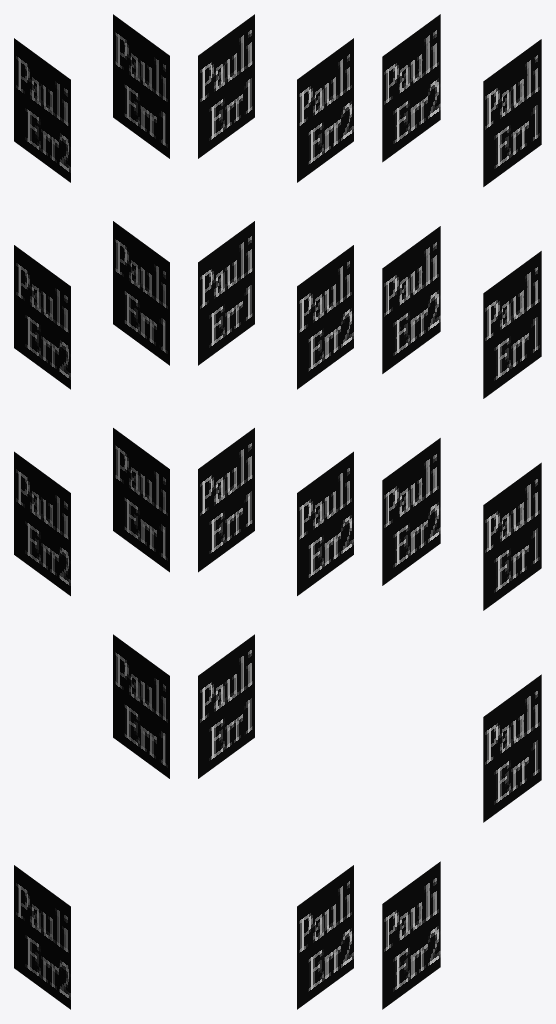
File: noise_gates_3.gltf
3 views of the same model, side by side, from view 1: azimuth 30°, elevation 25°; view 2: azimuth 150°, elevation 25°; view 3: azimuth 330°, elevation 25° (orthographic). The views are drawn at different scales.
Bounding box in the file's own units: 1 × 9 × 1.
1 material, 1 textured.
